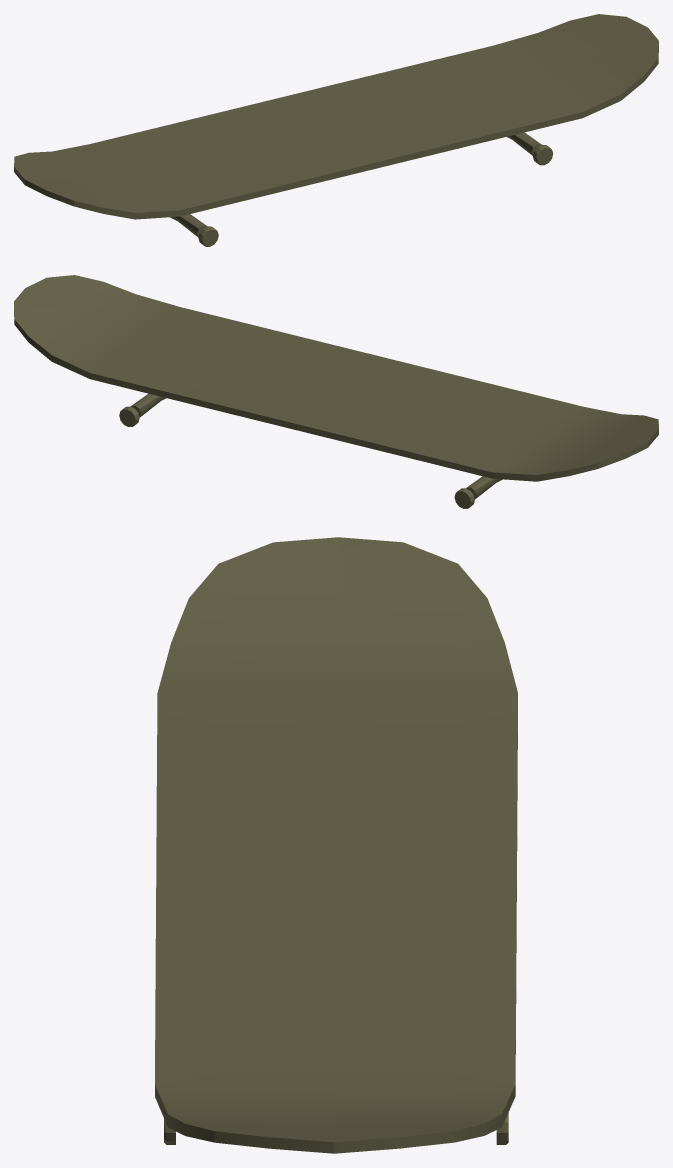
Rendered from Skate.fbx.
3 renders of one model, top to bottom at view 1: azimuth 30°, elevation 25°; view 2: azimuth 150°, elevation 25°; view 3: azimuth 270°, elevation 25°, orthographic. The views are drawn at different scales.
Parts seen in each view (by area): view 1: Skate; view 2: Skate; view 3: Skate.
Part boxes in pixels (x1,y1,x2,y2): Skate: (14, 14, 658, 246); Skate: (14, 275, 658, 508); Skate: (155, 537, 517, 1153).
Size of the model in its own units: 560 by 61.55 by 142.
